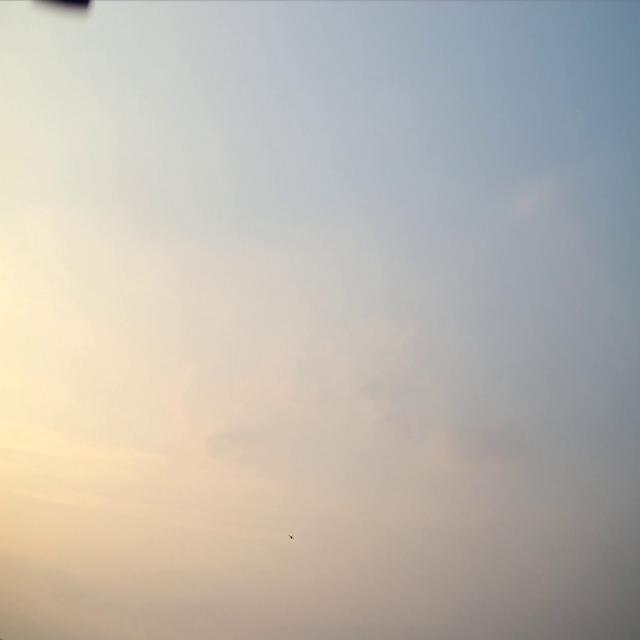drone: (288, 534, 294, 540)
